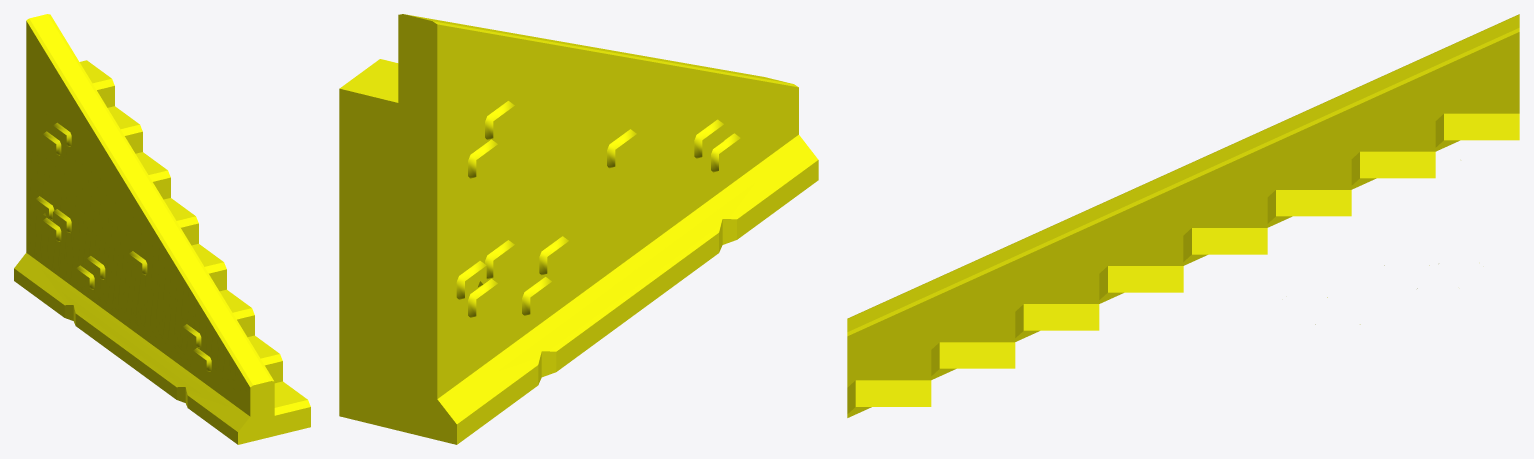
Rendered from kaykit-stairs-long-modular-left.glb.
The picture shows the model from 3 angles, left to right: view 1: azimuth 30°, elevation 25°; view 2: azimuth 150°, elevation 25°; view 3: azimuth 270°, elevation 25°; orthographic projection. The views are drawn at different scales.
Visible parts, largest first — view 1: stairs_long_modular_left; view 2: stairs_long_modular_left; view 3: stairs_long_modular_left.
Boxes of the visible parts, left/top/right/bottom form: stairs_long_modular_left: left=14, top=14, right=310, bottom=444; stairs_long_modular_left: left=339, top=14, right=818, bottom=444; stairs_long_modular_left: left=847, top=14, right=1519, bottom=417.
Bounding box in the file's own units: 1.5 × 5.1 × 8.
